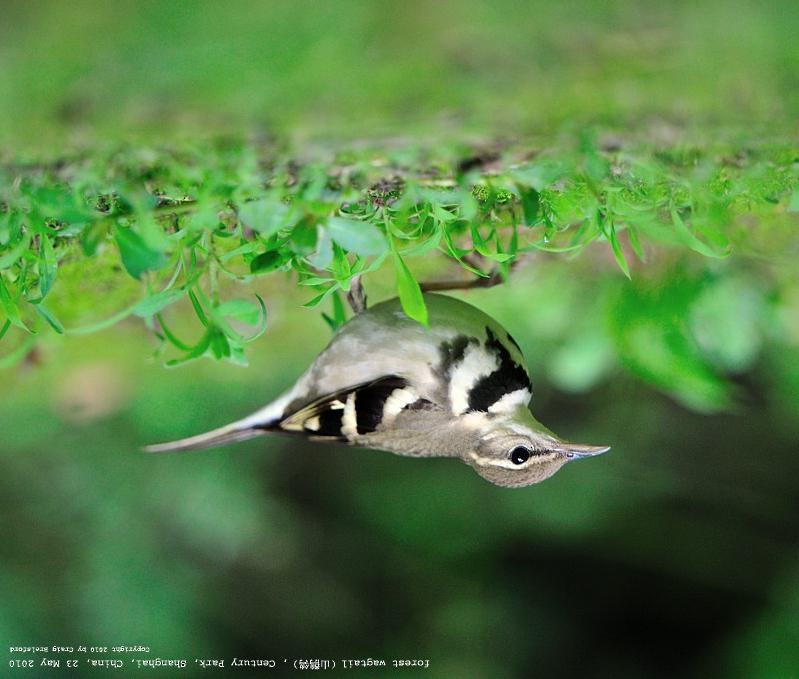wagtail: (143, 278, 624, 487)
